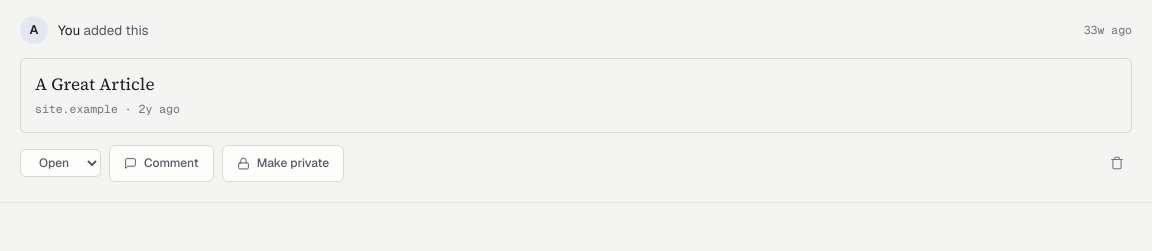
Scenario: <ProjectPinCard> › falls back to a generic error message
Click the button titled "Remove from project" at (1117, 164), box [1102,148,1132,178]
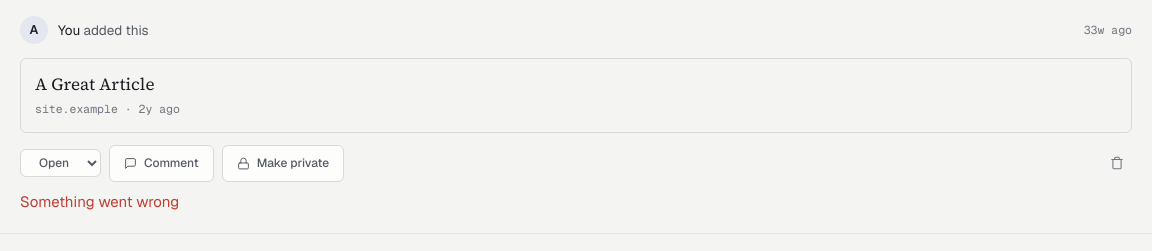
expect the text "Something went wrong" is shown: met, box [20,192,179,211]
